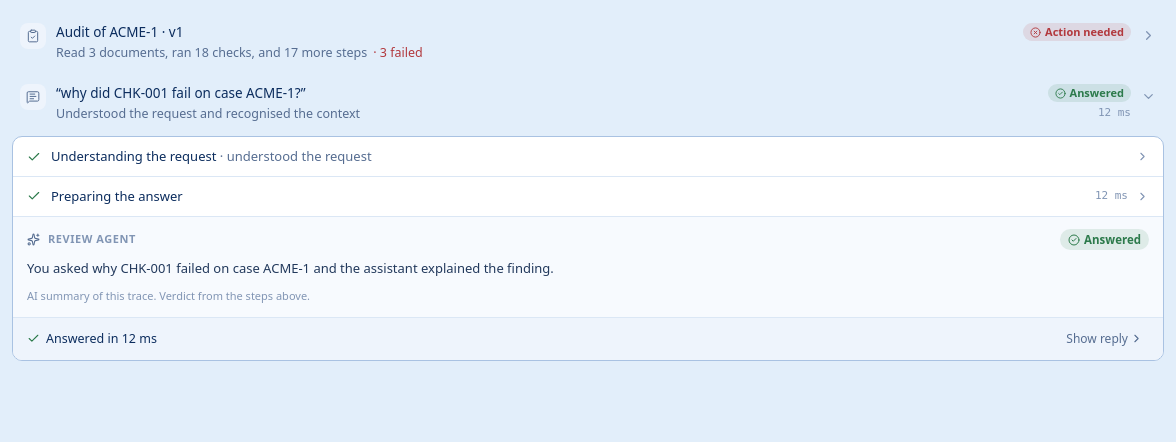
Test: ThinkingTimeline › keeps the footer to a status line, with the reply only on request
Expected: the text "Answered in 12 ms" is shown, [46, 330, 157, 346]
Expected: the element "why did CHK-001 fail" does not show "Accounting equation failed for BS"
Click the button "Show reply" at x=1105, y=339, box [1060, 328, 1149, 350]
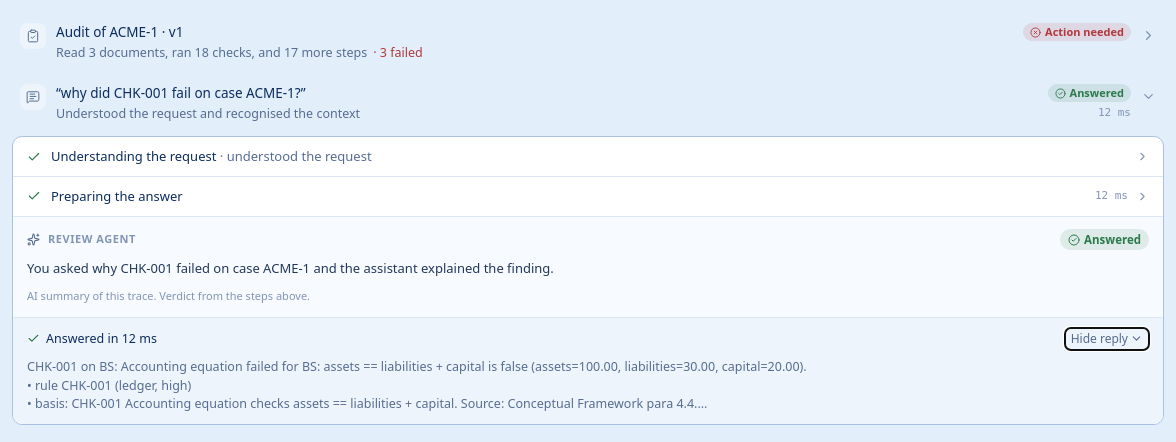
Expected: the element "why did CHK-001 fail" shows "Accounting equation failed for BS", [27, 358, 807, 412]
Expected: the button "Hide reply" is shown, [1065, 328, 1149, 350]
